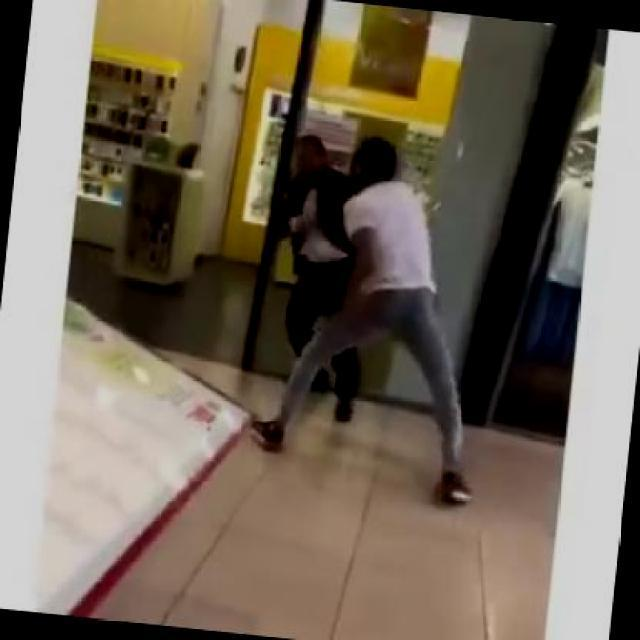fight: (244, 125, 512, 502)
